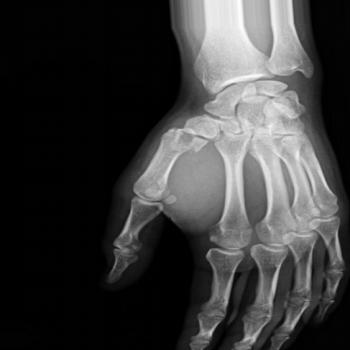Fracture: (180, 131, 211, 155)
